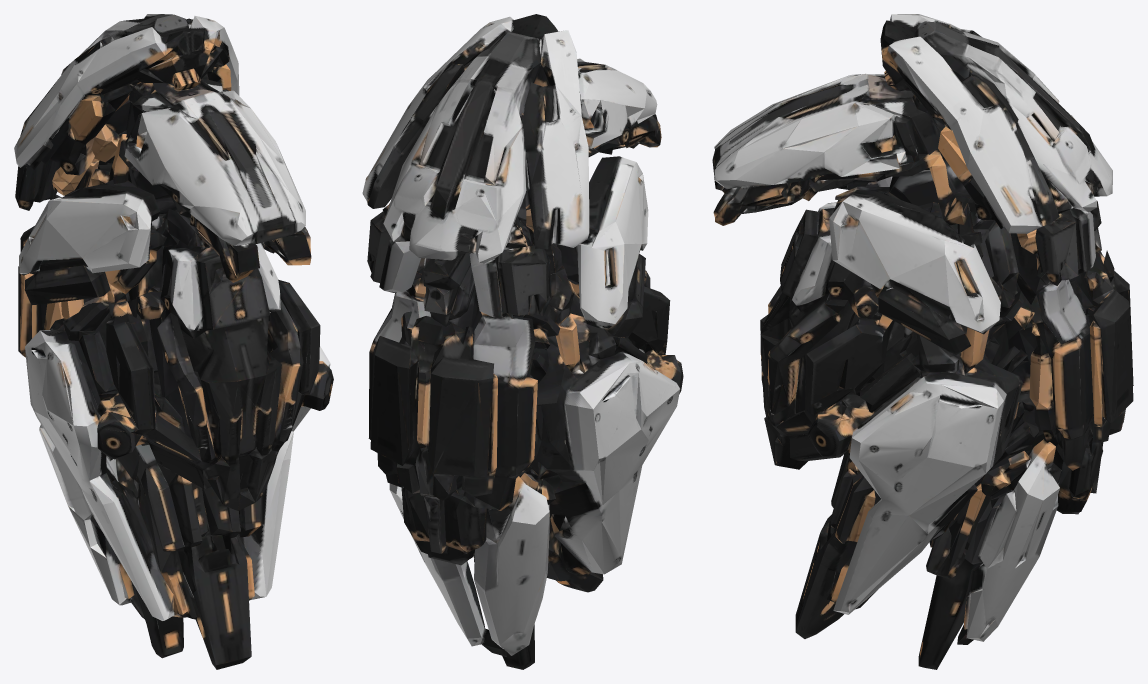
File: core_drone_meshy_opt.glb
3 views of the same model, side by side, from view 1: azimuth 30°, elevation 25°; view 2: azimuth 150°, elevation 25°; view 3: azimuth 270°, elevation 25° (orthographic).
Parts seen in each view (by area): view 1: output_unwrapped; view 2: output_unwrapped; view 3: output_unwrapped.
Boxes of the visible parts, x1,y1,x2,y2 form: output_unwrapped: [14, 14, 333, 669]; output_unwrapped: [362, 14, 683, 669]; output_unwrapped: [712, 14, 1133, 669].
Size of the model in its own units: 0.8335 by 1.9 by 1.13.
Materials: 1 (1 with a texture image).
